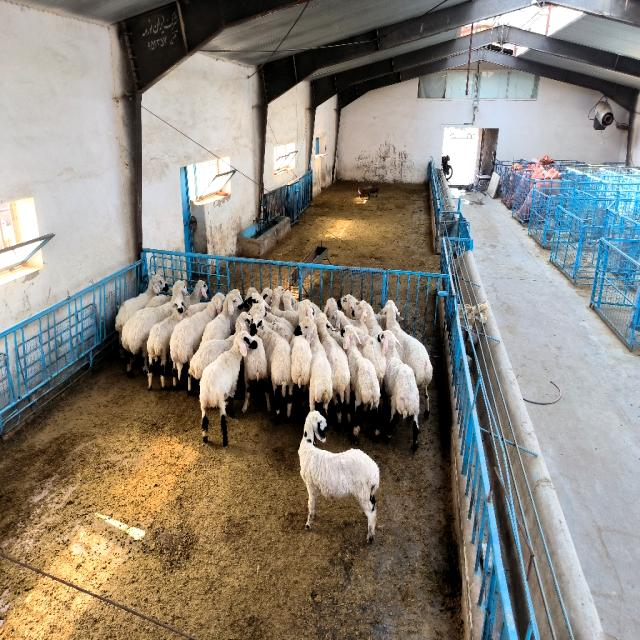sheep: (299, 412, 379, 541), (199, 330, 256, 446), (121, 282, 186, 376), (381, 300, 432, 416), (379, 330, 419, 449), (170, 293, 225, 378), (250, 313, 292, 422), (342, 325, 380, 440), (254, 317, 294, 422), (295, 312, 332, 419), (315, 313, 350, 426), (146, 297, 188, 389), (115, 275, 166, 342), (189, 336, 234, 392), (242, 335, 271, 412), (201, 293, 241, 341), (354, 327, 386, 382), (291, 335, 311, 391), (352, 300, 381, 337), (184, 280, 208, 306), (329, 310, 352, 335), (340, 295, 358, 318), (146, 295, 171, 308), (235, 312, 251, 332)
